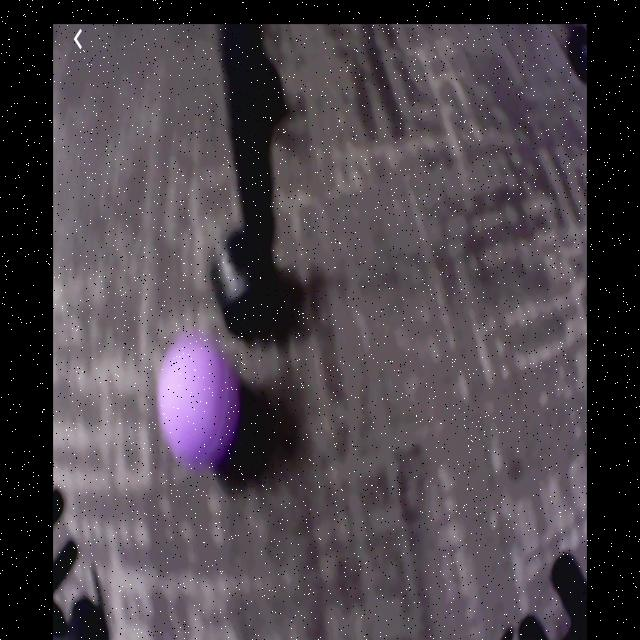ball: (158, 339, 244, 467)
